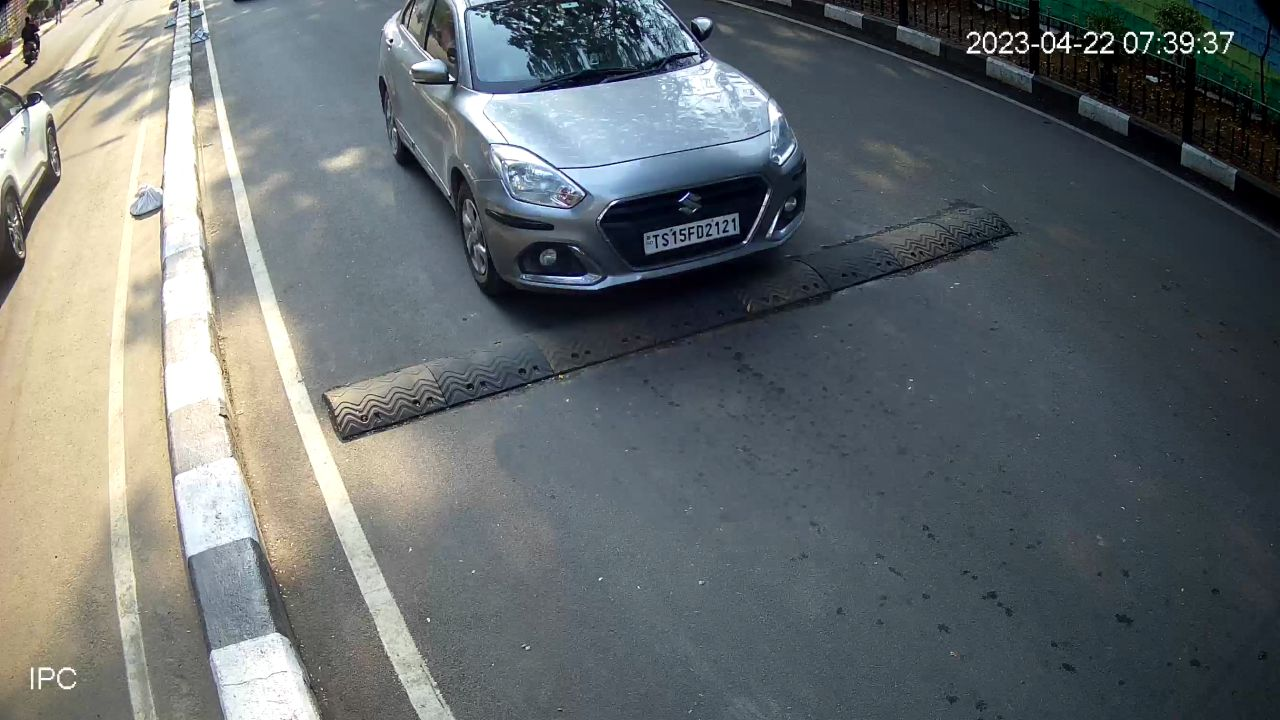license_plate: (639, 211, 745, 261)
